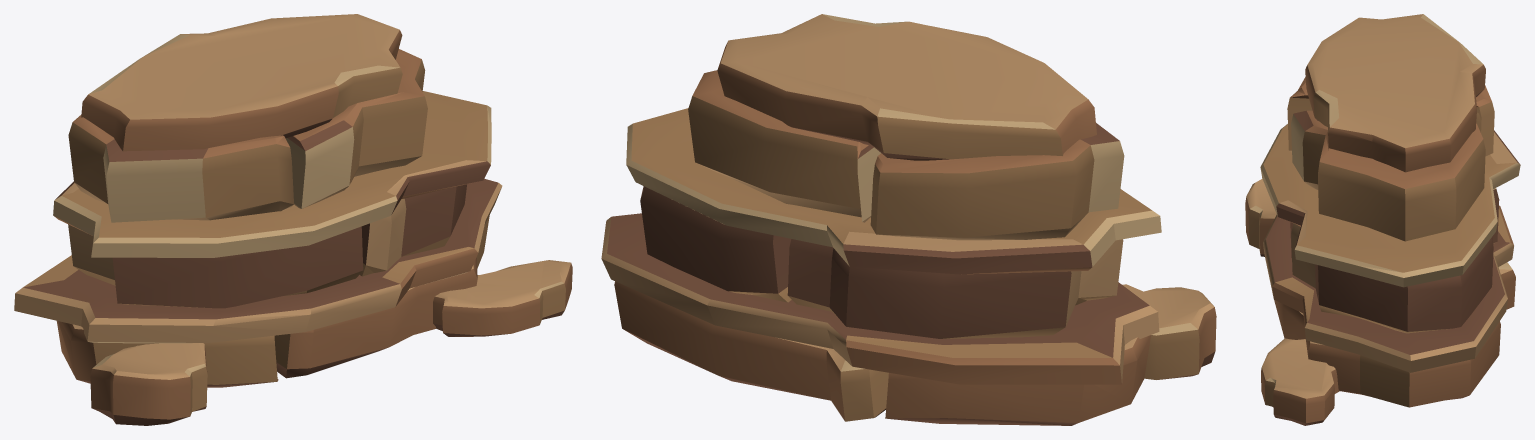
File: fw_sandstone_bedded.glb
3 renders of one model, left to right at view 1: azimuth 30°, elevation 25°; view 2: azimuth 150°, elevation 25°; view 3: azimuth 270°, elevation 25°, orthographic. The views are drawn at different scales.
Visible parts, largest first — view 1: body; view 2: body; view 3: body.
Part boxes in pixels (x1=…): body: x1=14, y1=14, x2=572, y2=425; body: x1=601, y1=14, x2=1216, y2=425; body: x1=1245, y1=14, x2=1520, y2=425.
Bounding box in the file's own units: 2.32 × 1.22 × 1.26.
